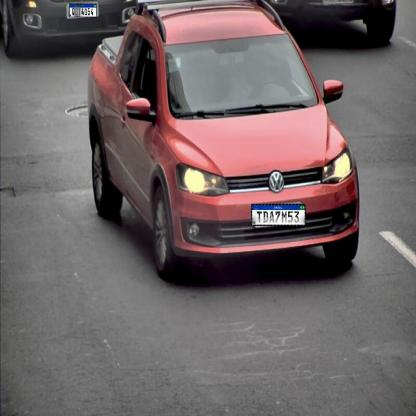PlacaM: (251, 204, 306, 226), (69, 4, 97, 18)
